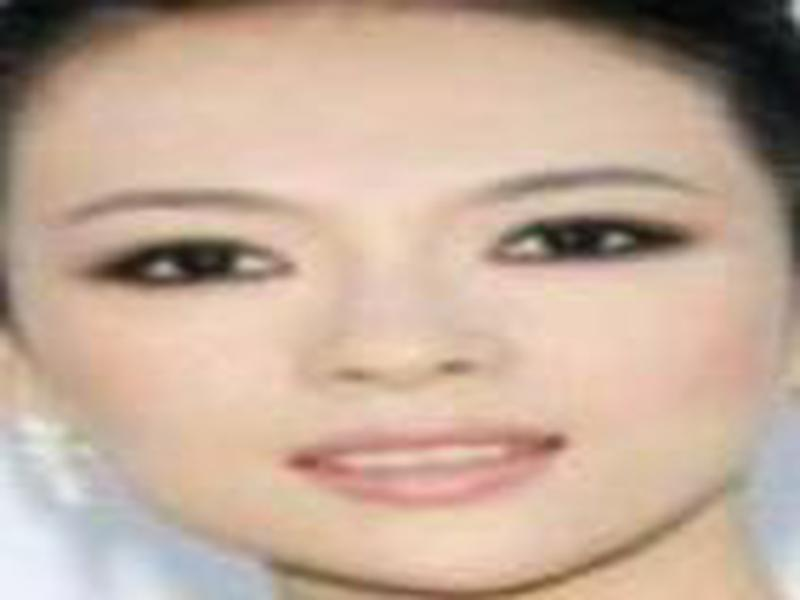without_mask: (12, 74, 778, 597)
